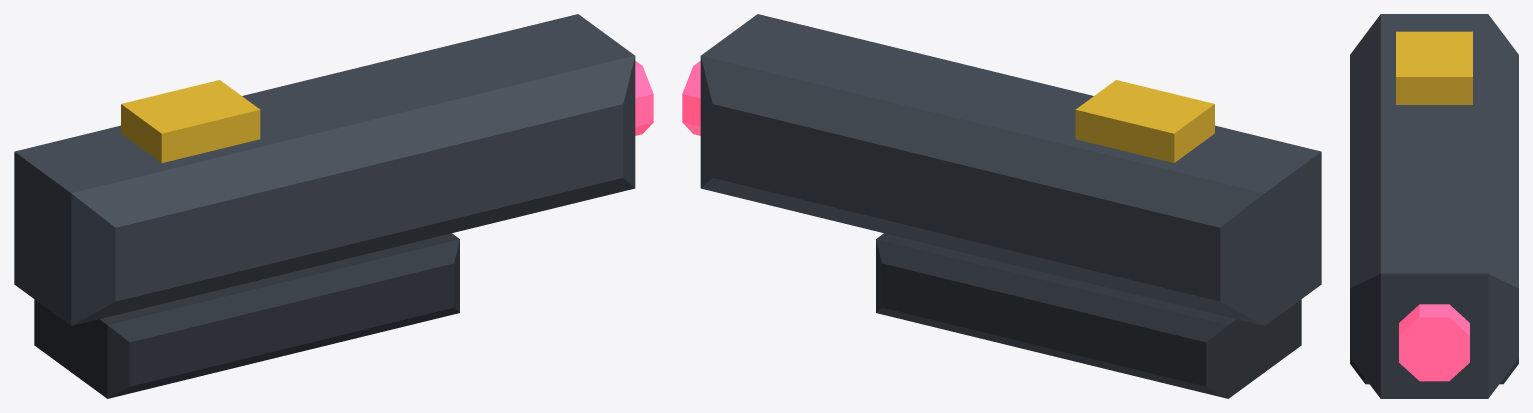
File: sight_laser.glb
The picture shows the model from 3 angles, left to right: view 1: azimuth 30°, elevation 25°; view 2: azimuth 150°, elevation 25°; view 3: azimuth 270°, elevation 25°; orthographic projection. The views are drawn at different scales.
Visible parts, largest first — view 1: sight_laser; view 2: sight_laser; view 3: sight_laser.
Part boxes in pixels (left/top/right/bottom): sight_laser: left=14, top=14, right=653, bottom=398; sight_laser: left=682, top=14, right=1321, bottom=398; sight_laser: left=1350, top=14, right=1518, bottom=398.
Bounding box in the file's own units: 0.084 × 0.032 × 0.022.
